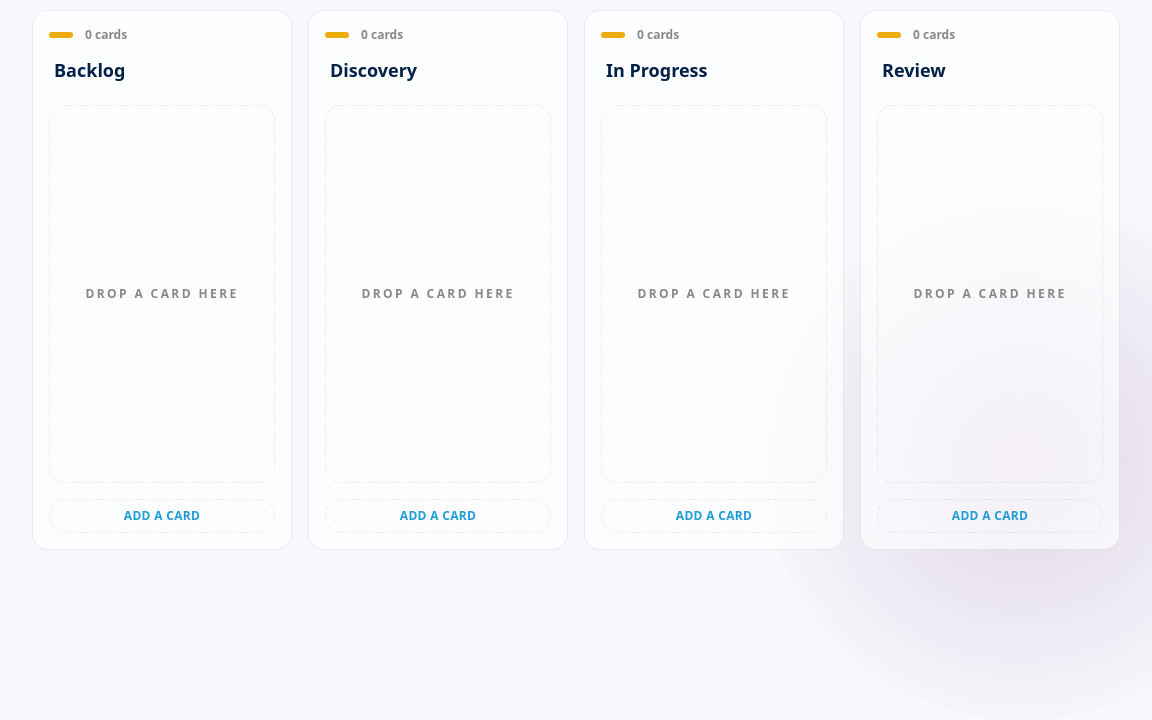
Scenario: KanbanBoard › adds and removes a card through the API
(page scrolled)
Click the 1st button "Add a card" at (162, 516), box left=49, top=499, right=275, bottom=533
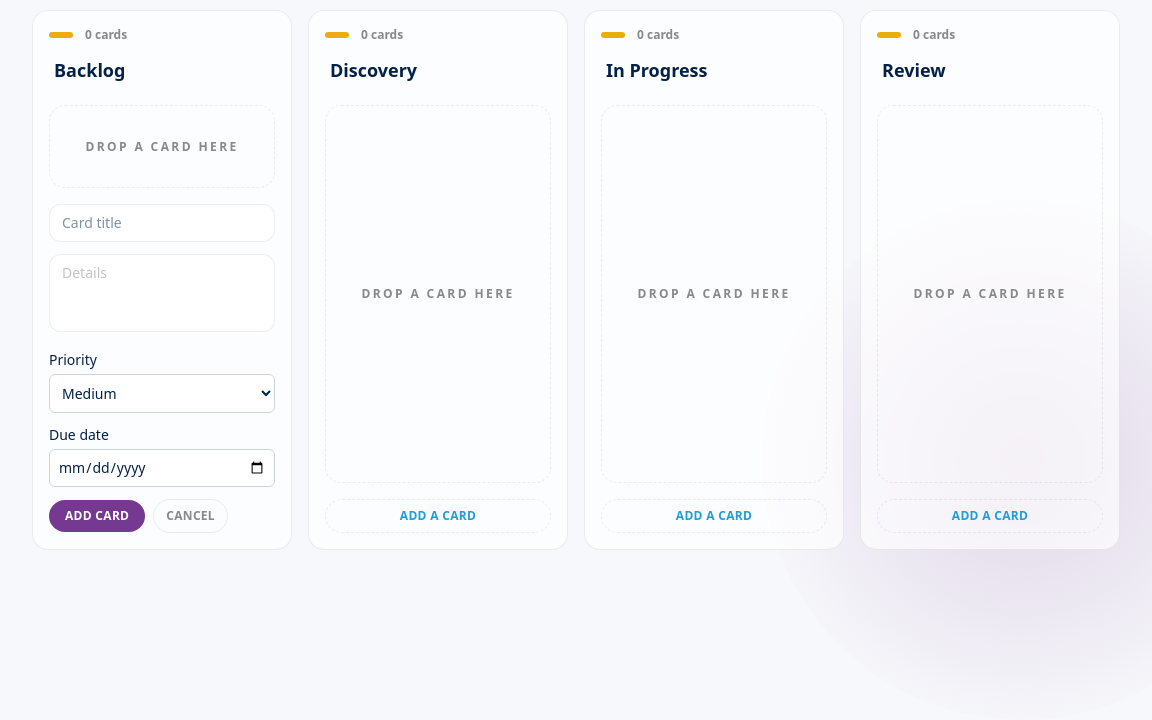
Type "New card" into the field with placeholder "Card title" at (162, 223), box left=49, top=204, right=275, bottom=242
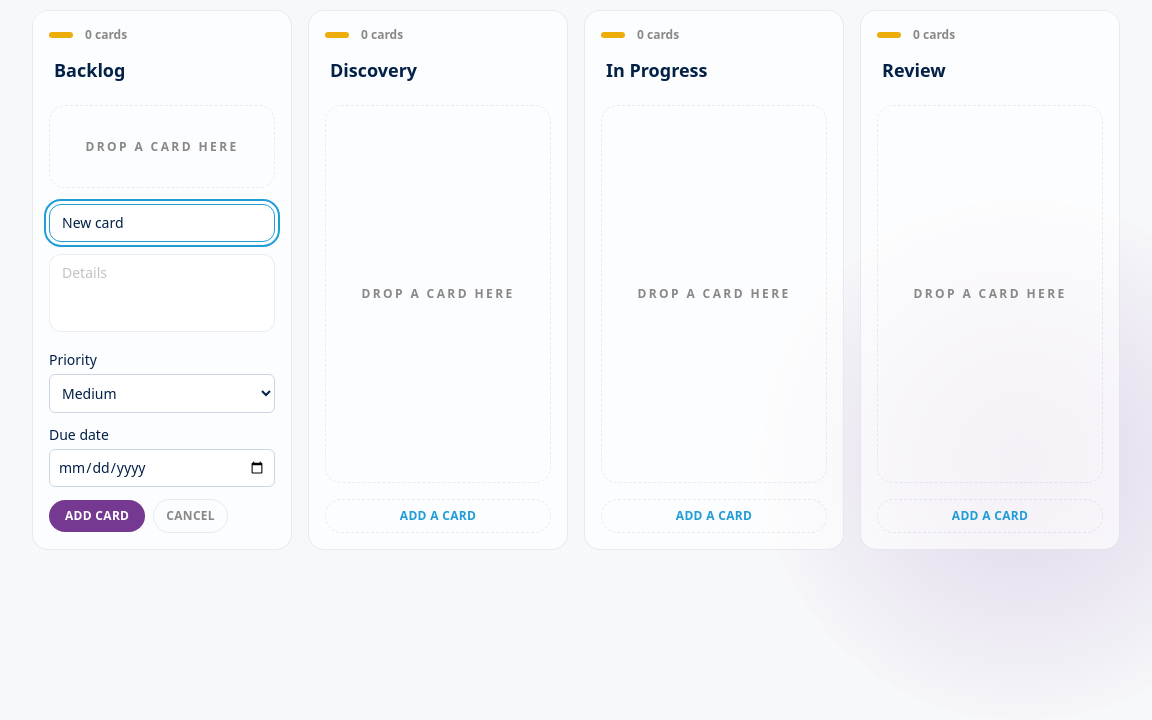
Type "Notes" into the text box with placeholder "Details" at (162, 293), box left=49, top=254, right=275, bottom=332
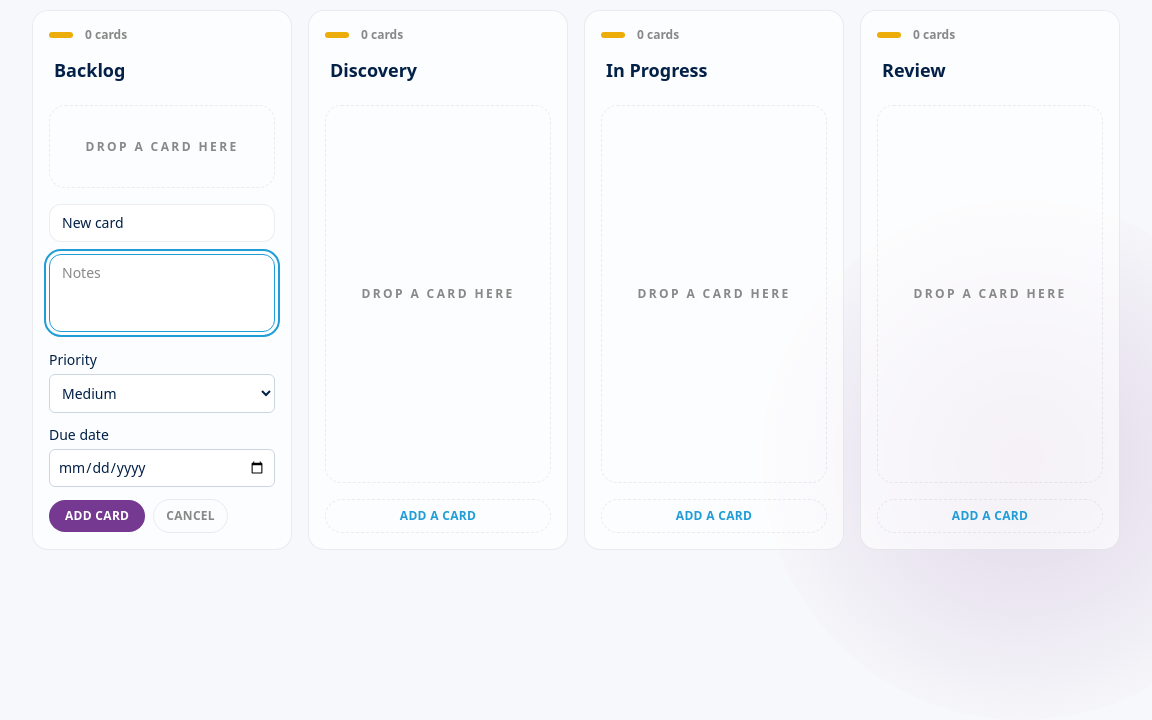
Click the button "Add card" at (97, 516), box left=49, top=500, right=145, bottom=532
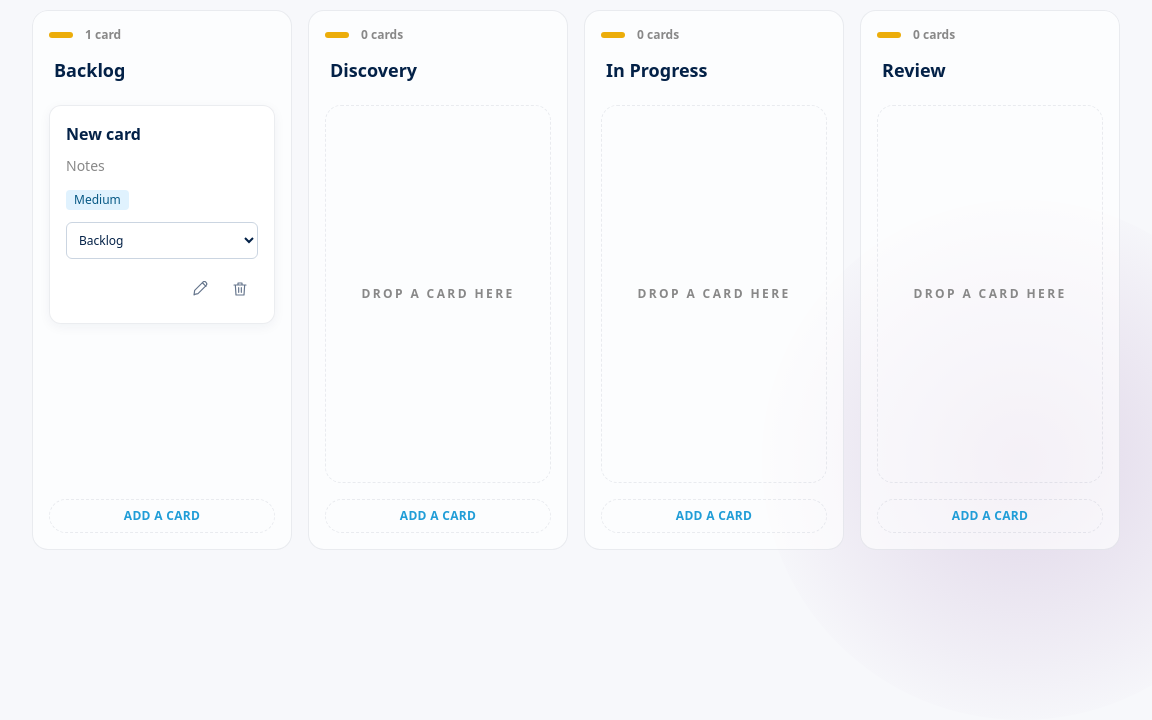
Result: the heading "New card" is shown at left=66, top=123, right=141, bottom=145
Click the button named "delete new card" at (240, 289), box left=222, top=271, right=258, bottom=307
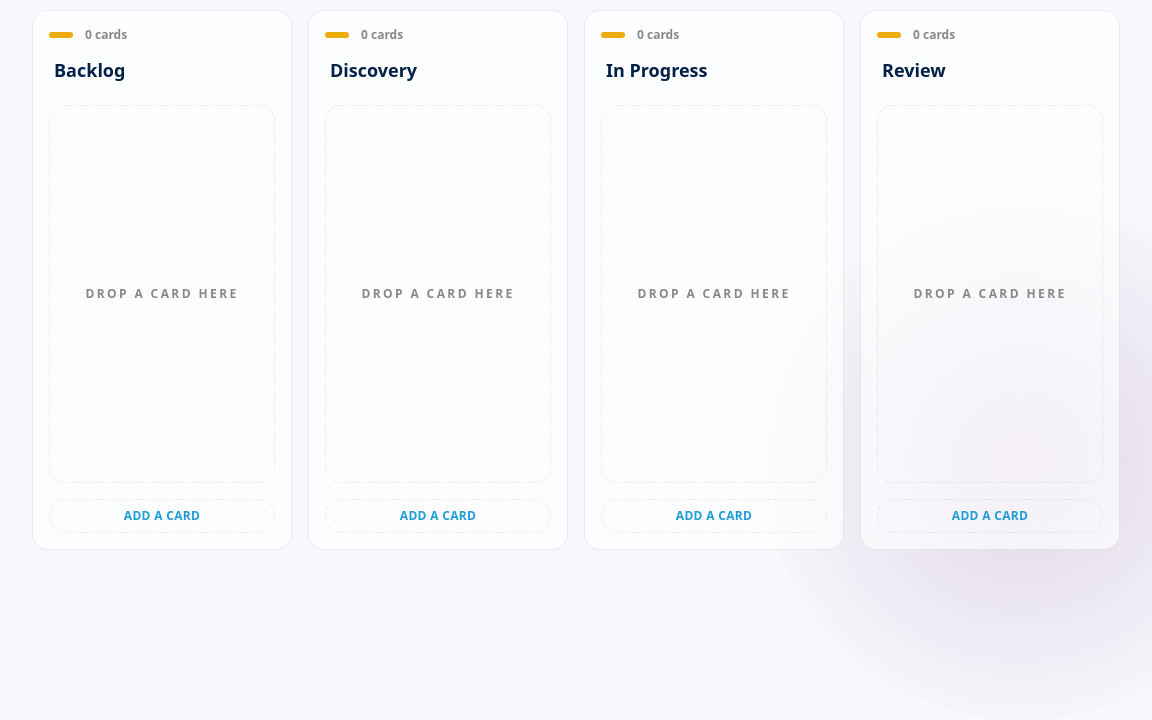
Result: the button "New card" is gone
